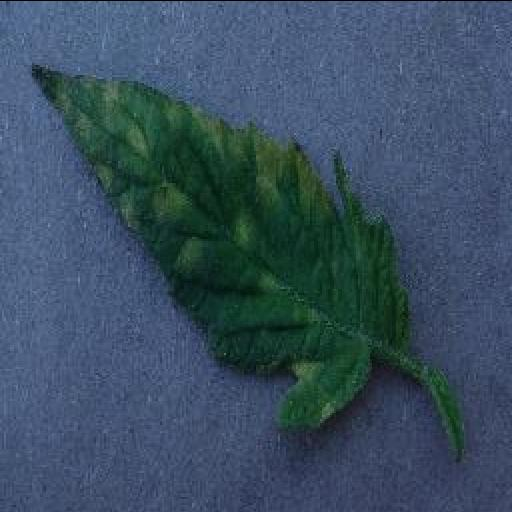disease_tomato: (26, 64, 412, 429)
